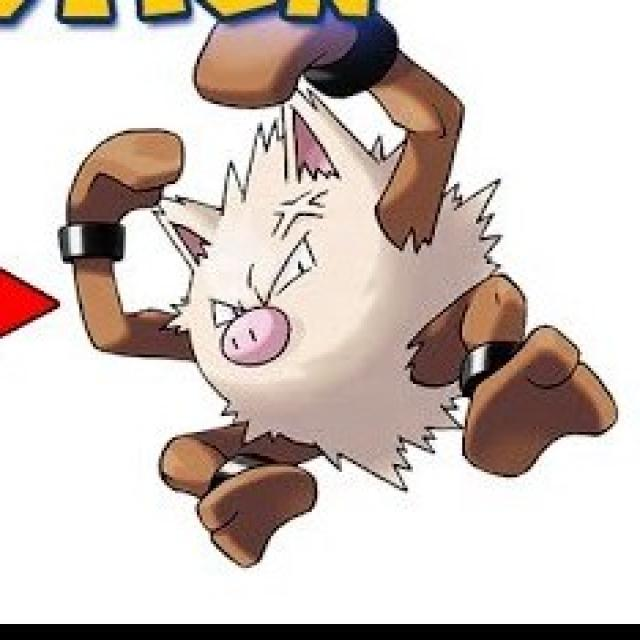Primeape: (65, 44, 533, 491)
